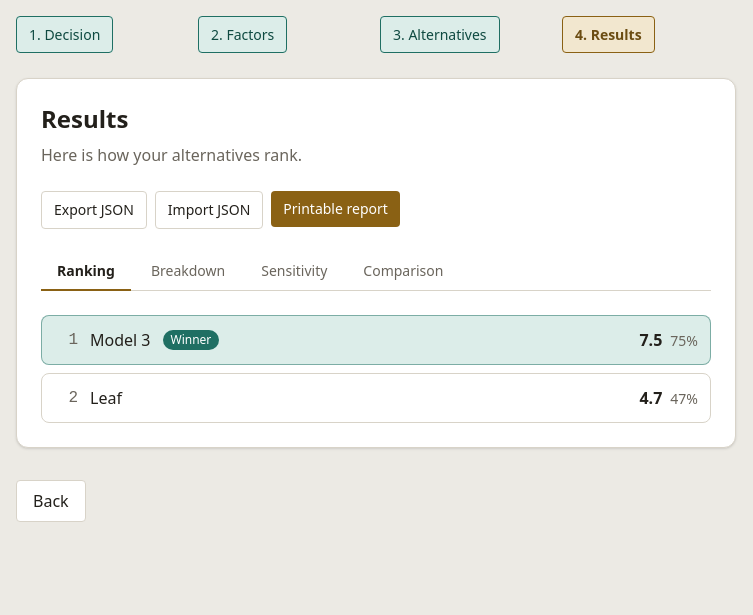
Test: ResultsStep — tabs › switches to the Comparison tab
This screenshot has width=753, height=615.
Click the tab "Comparison" at x=403, y=272, box [347,253,459,291]
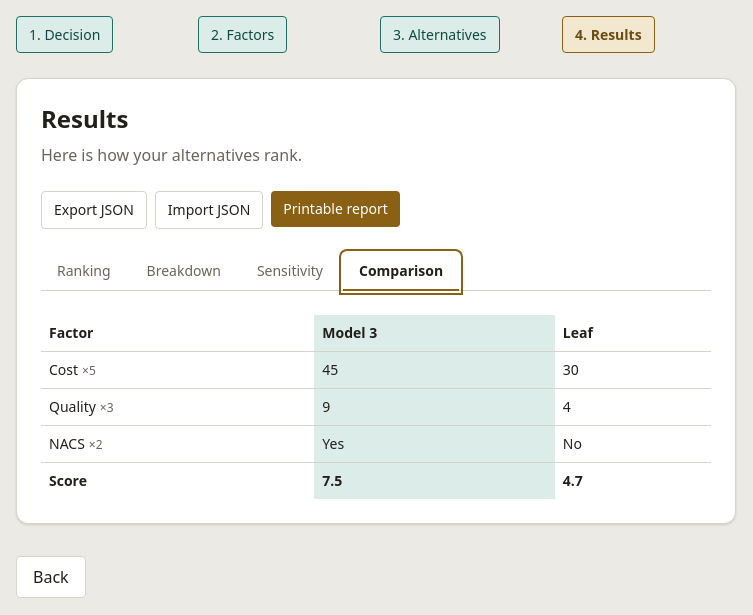
Now the table is shown, box [41,315,711,499]
